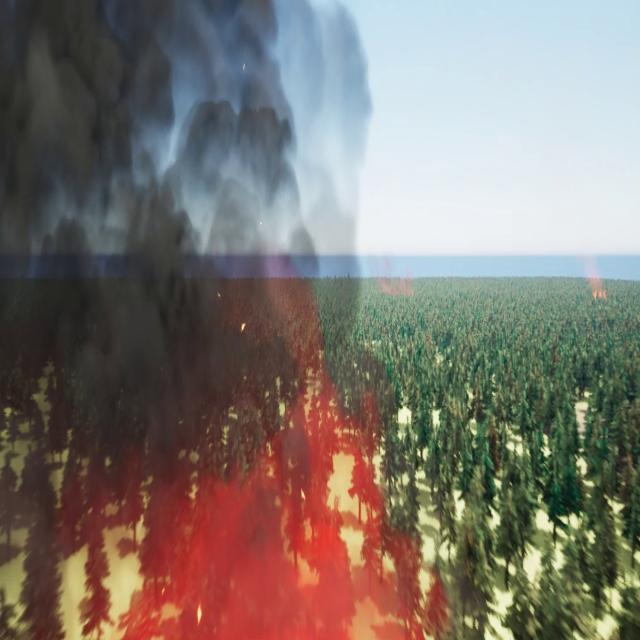smoke: (0, 0, 449, 639), (377, 253, 417, 302), (582, 253, 608, 300)
